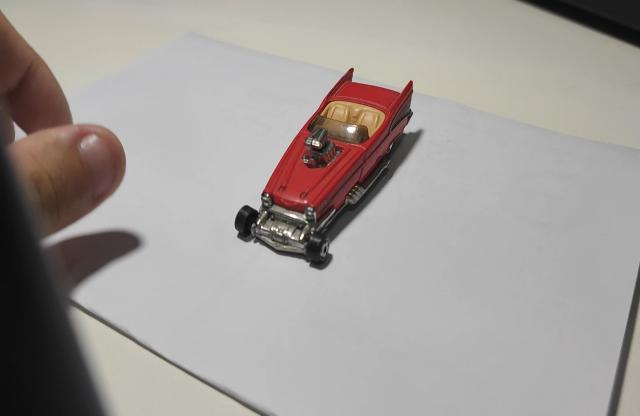03_V8: (234, 69, 422, 270)
